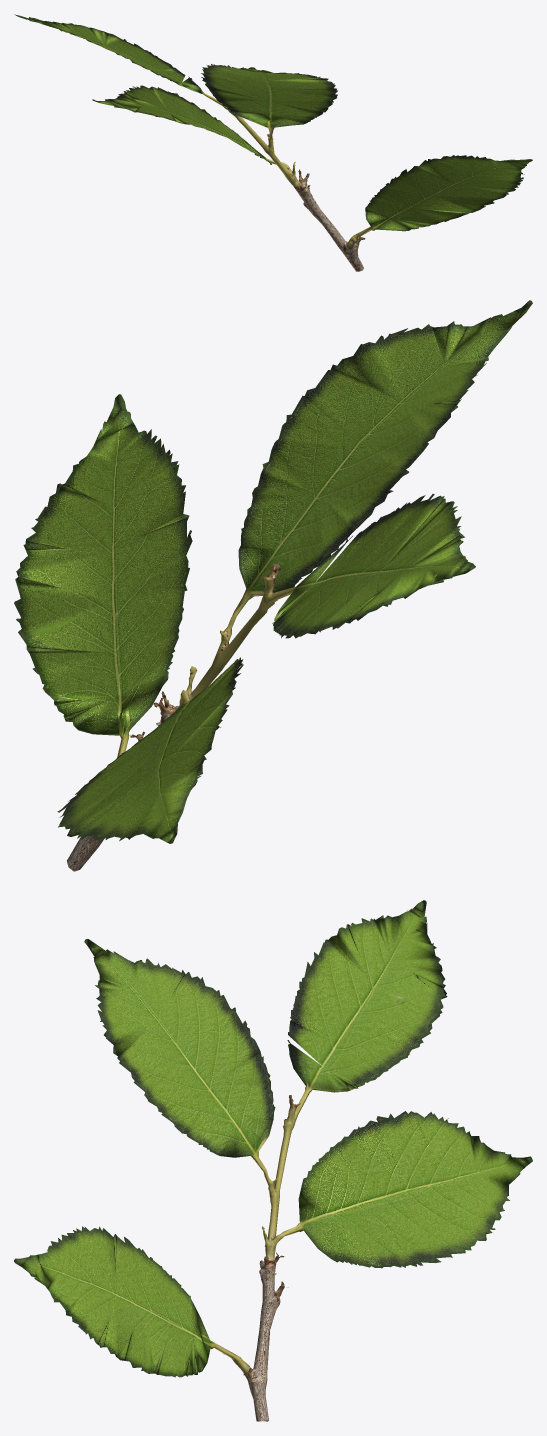
Rendered from leaf_branch.glb.
3 views of the same model, one above another, from view 1: azimuth 30°, elevation 25°; view 2: azimuth 150°, elevation 25°; view 3: azimuth 270°, elevation 25° (orthographic). The views are drawn at different scales.
Visible parts, largest first — view 1: tripo_node_ef0cf725-a66a-4224-95cf-ed0c959b0475; view 2: tripo_node_ef0cf725-a66a-4224-95cf-ed0c959b0475; view 3: tripo_node_ef0cf725-a66a-4224-95cf-ed0c959b0475.
Boxes of the visible parts, <box> form: tripo_node_ef0cf725-a66a-4224-95cf-ed0c959b0475: <box>14,14,532,271</box>; tripo_node_ef0cf725-a66a-4224-95cf-ed0c959b0475: <box>14,300,532,871</box>; tripo_node_ef0cf725-a66a-4224-95cf-ed0c959b0475: <box>14,900,532,1421</box>.
Size of the model in its own units: 0.6898 by 0.5271 by 0.6601.
1 material, 1 textured.
